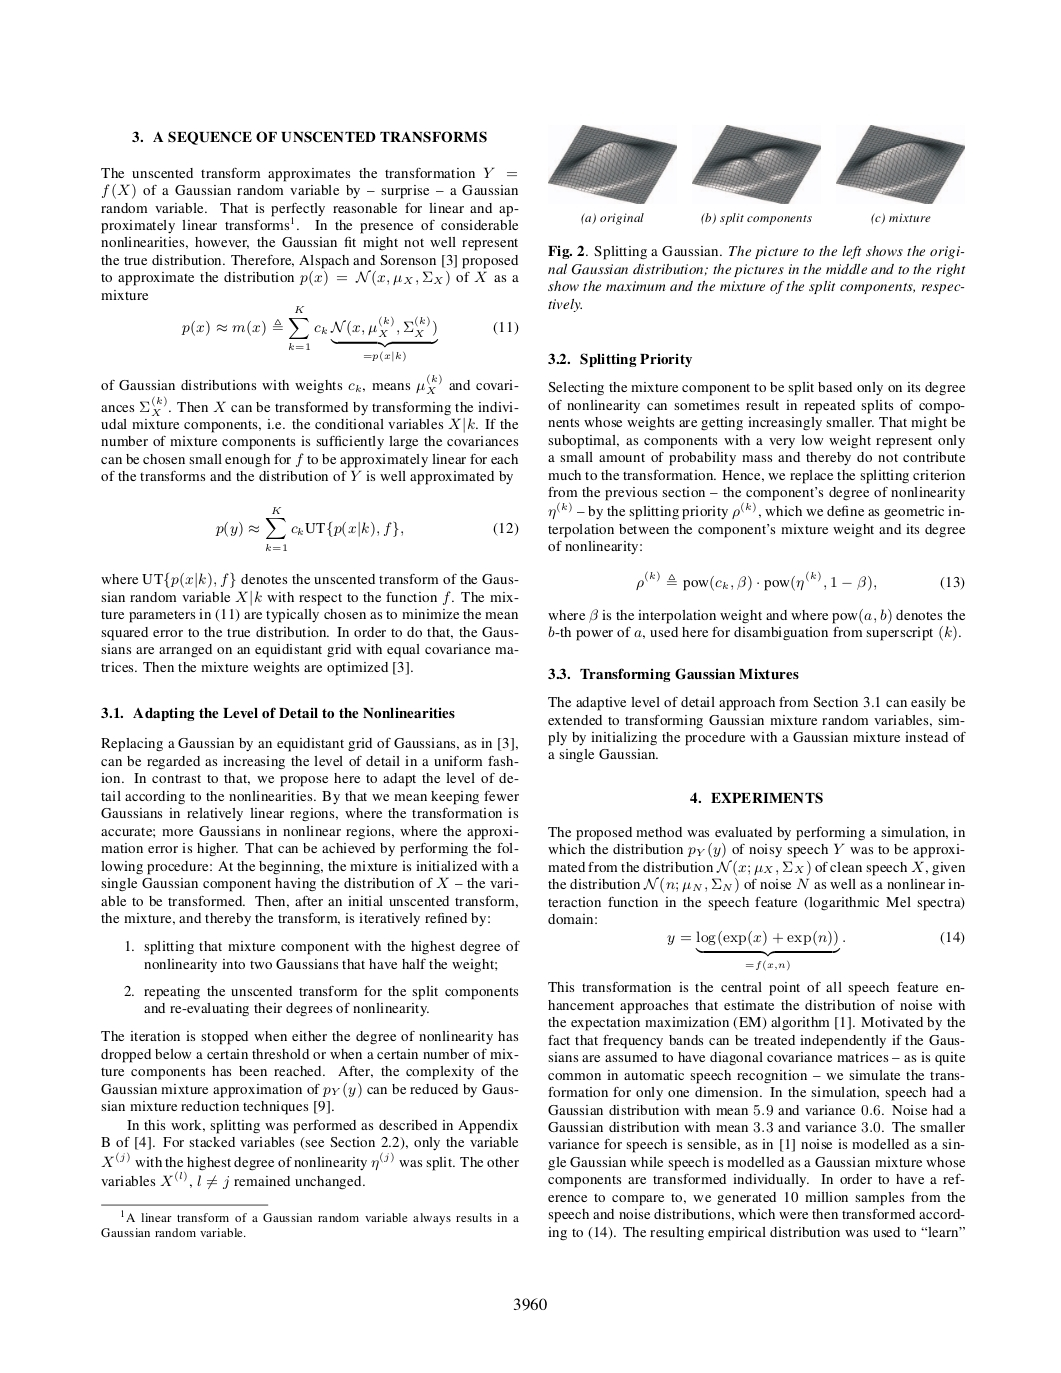figure: (548, 125, 676, 203), (692, 125, 820, 203), (836, 125, 964, 203)
formula: (181, 305, 518, 362), (215, 507, 518, 551), (666, 931, 964, 970), (636, 569, 964, 591)
